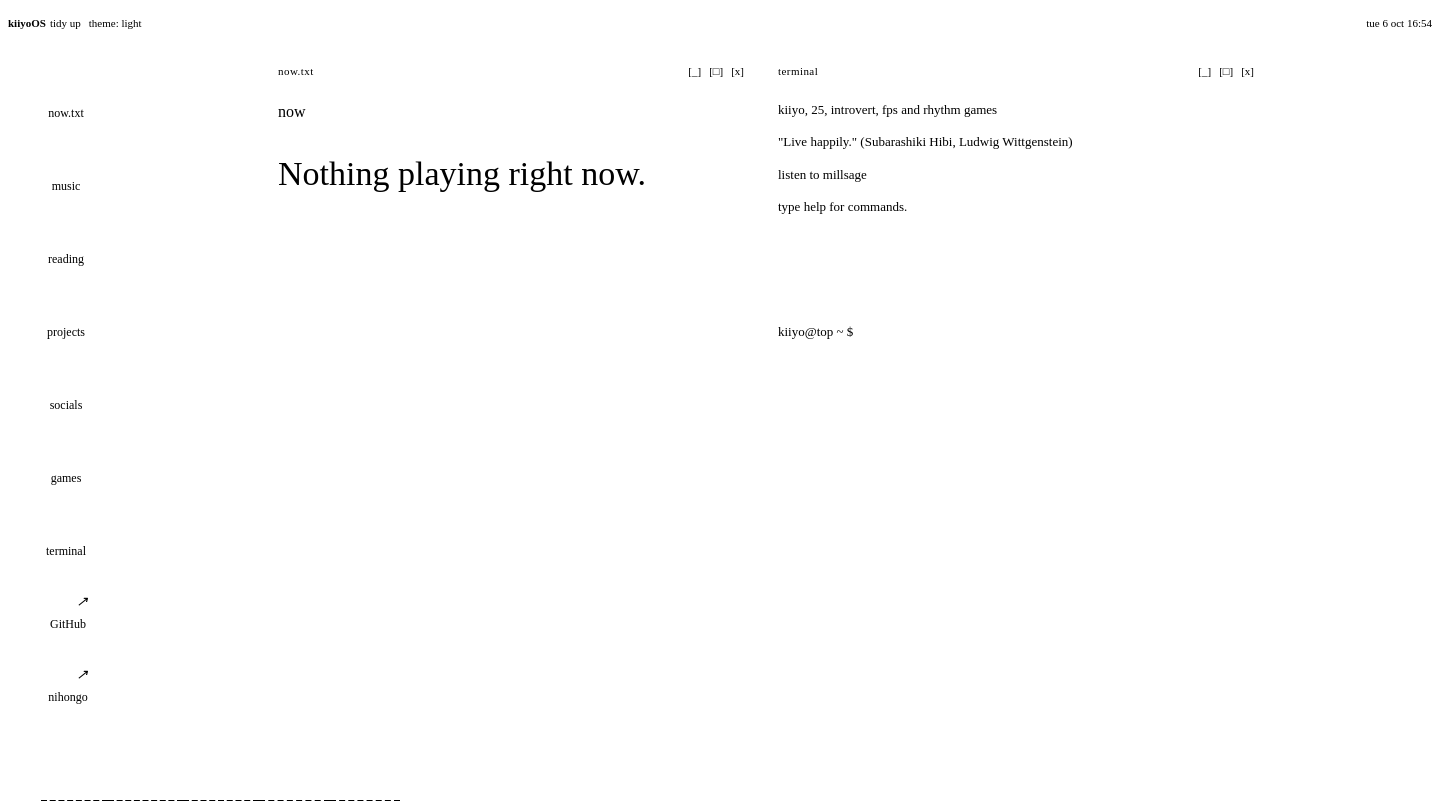
it: the terminal can reopen a closed window
Type "projects" into the field named "terminal command".
click(1056, 332); type("projects")  # box x1=853 y1=321 x2=1258 y2=342
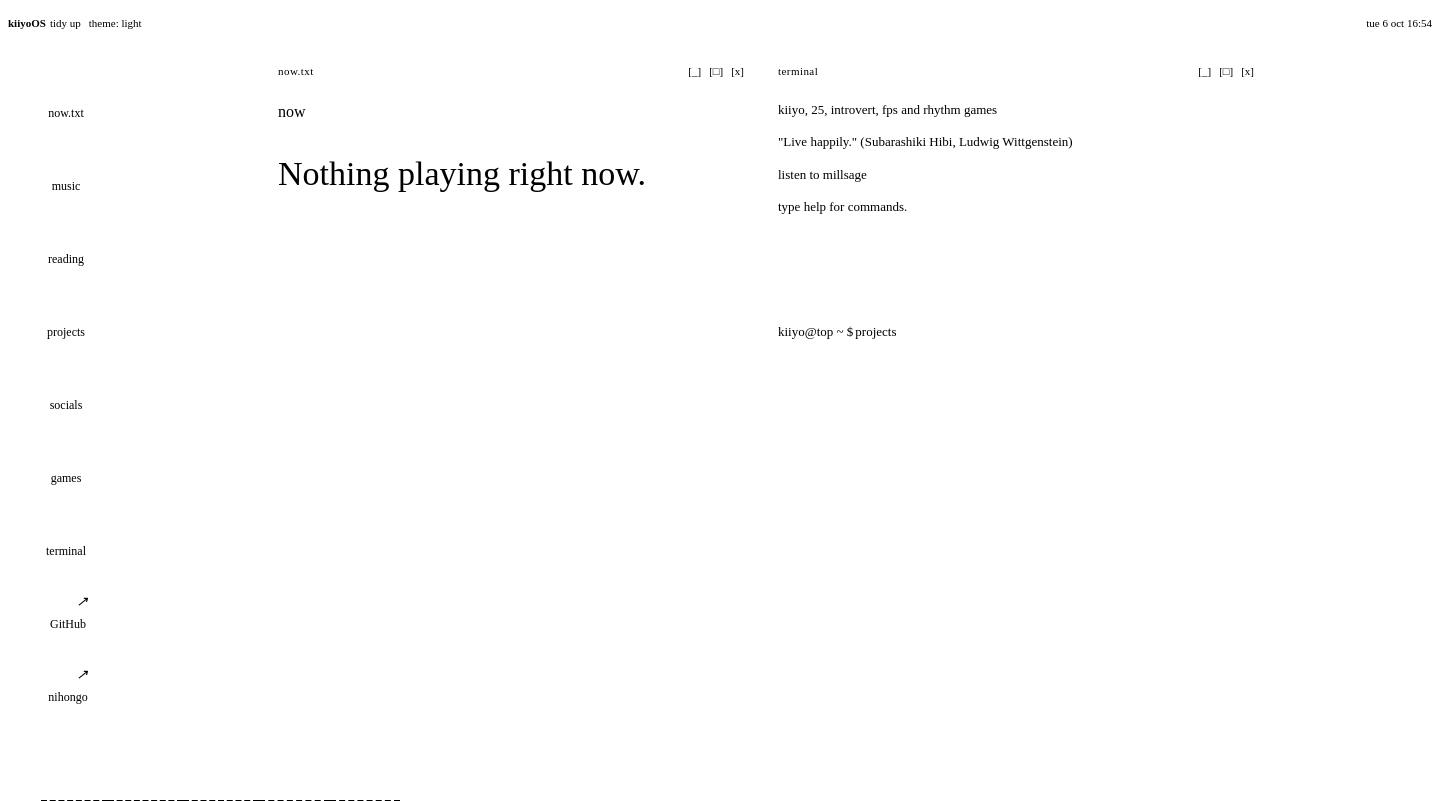
Submit the form named "terminal command", box x1=778 y1=321 x2=1258 y2=342
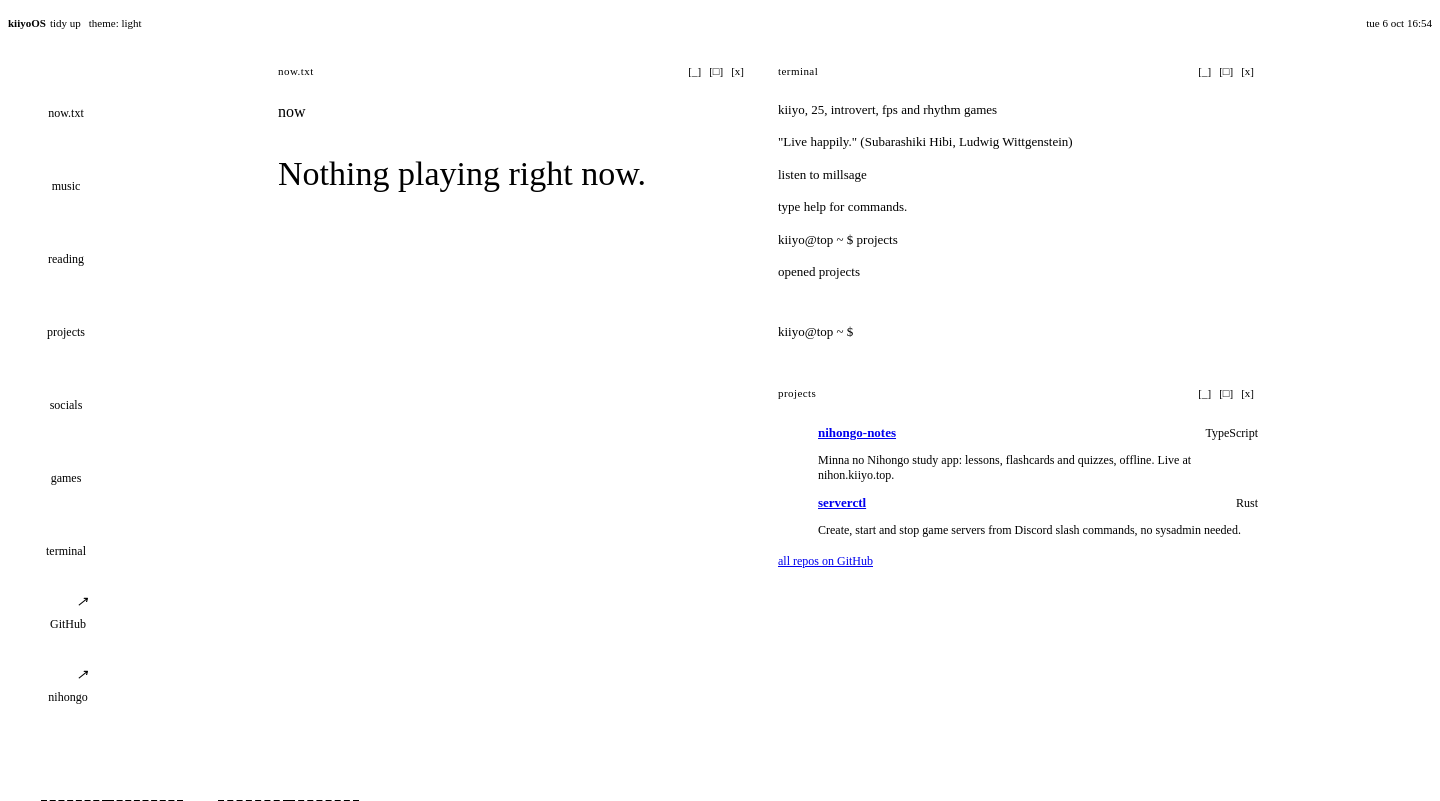
Expected: the element "projects" is shown, x1=778 y1=378 x2=1258 y2=581
